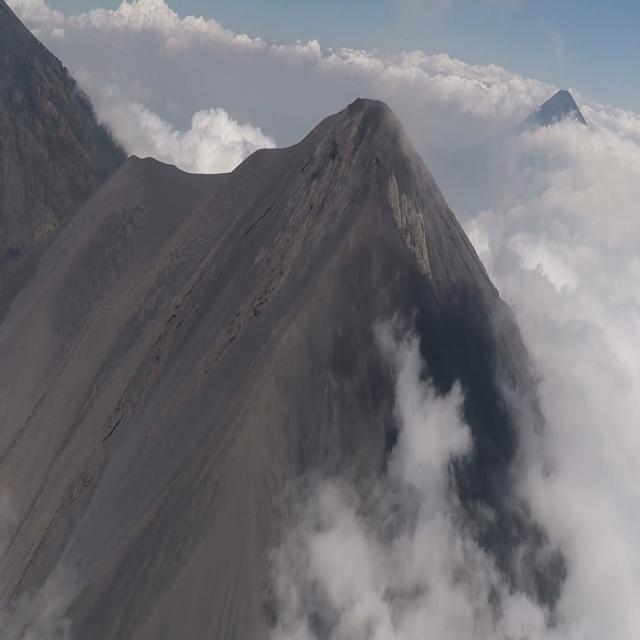Summit: (231, 90, 482, 286)
